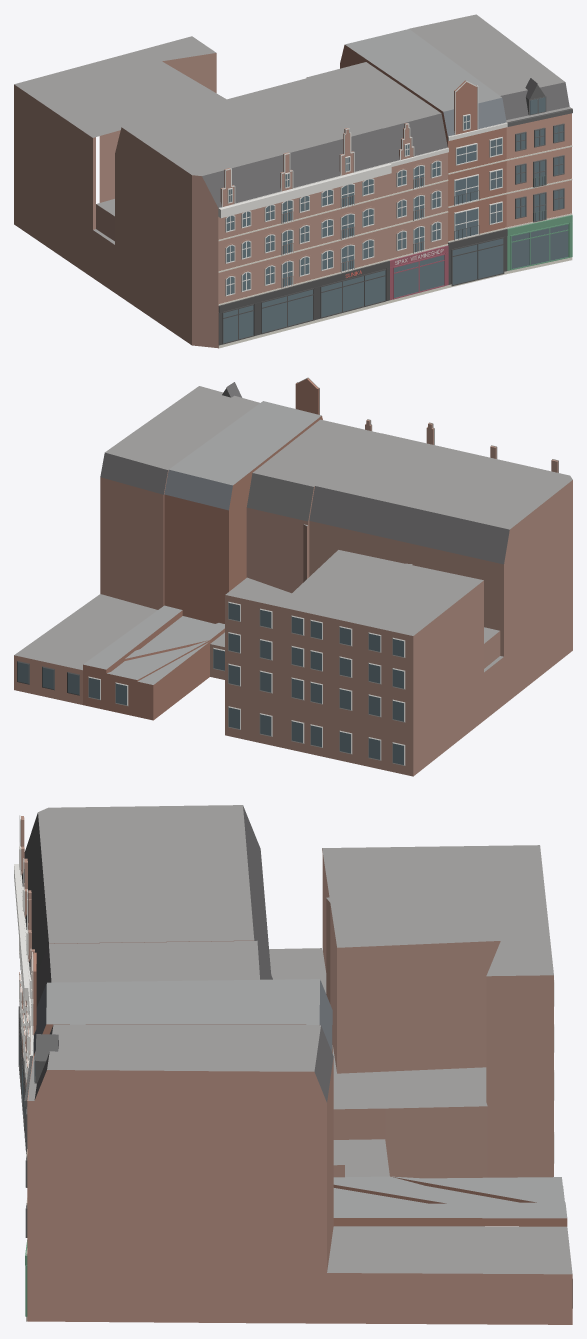
Rendered from chunk-face-bilder-236189-166159.glb.
3 views of the same model, one above another, from view 1: azimuth 30°, elevation 25°; view 2: azimuth 150°, elevation 25°; view 3: azimuth 270°, elevation 25° (orthographic). The views are drawn at different scales.
Parts seen in each view (by area): view 1: face-bilder-236189-166159; view 2: face-bilder-236189-166159; view 3: face-bilder-236189-166159.
Boxes of the visible parts, <box> form: face-bilder-236189-166159: <box>14,14,572,348</box>; face-bilder-236189-166159: <box>14,377,572,776</box>; face-bilder-236189-166159: <box>14,805,572,1324</box>.
Bounding box in the file's own units: 37.88 × 18.96 × 32.48.
